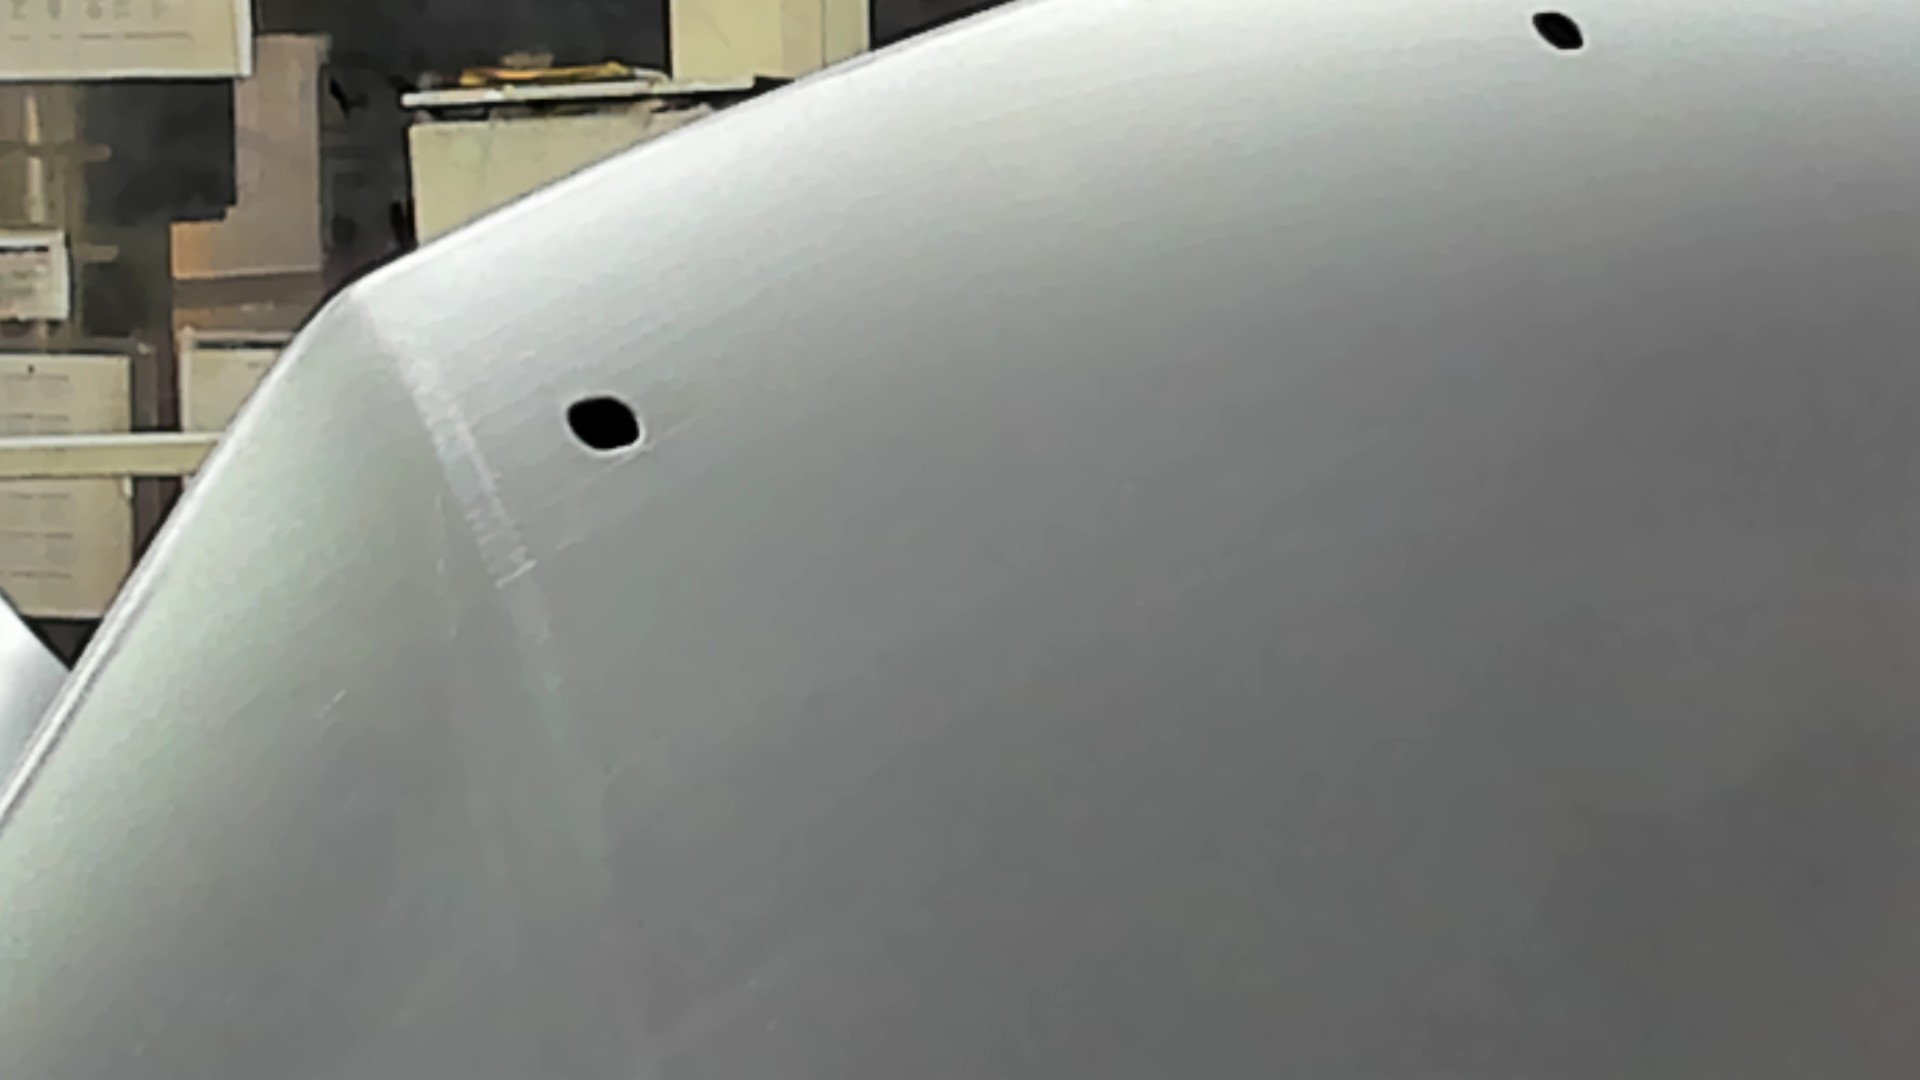amorfo: (560, 392, 650, 456), (1530, 7, 1592, 55)
capo: (737, 125, 1920, 1080)
